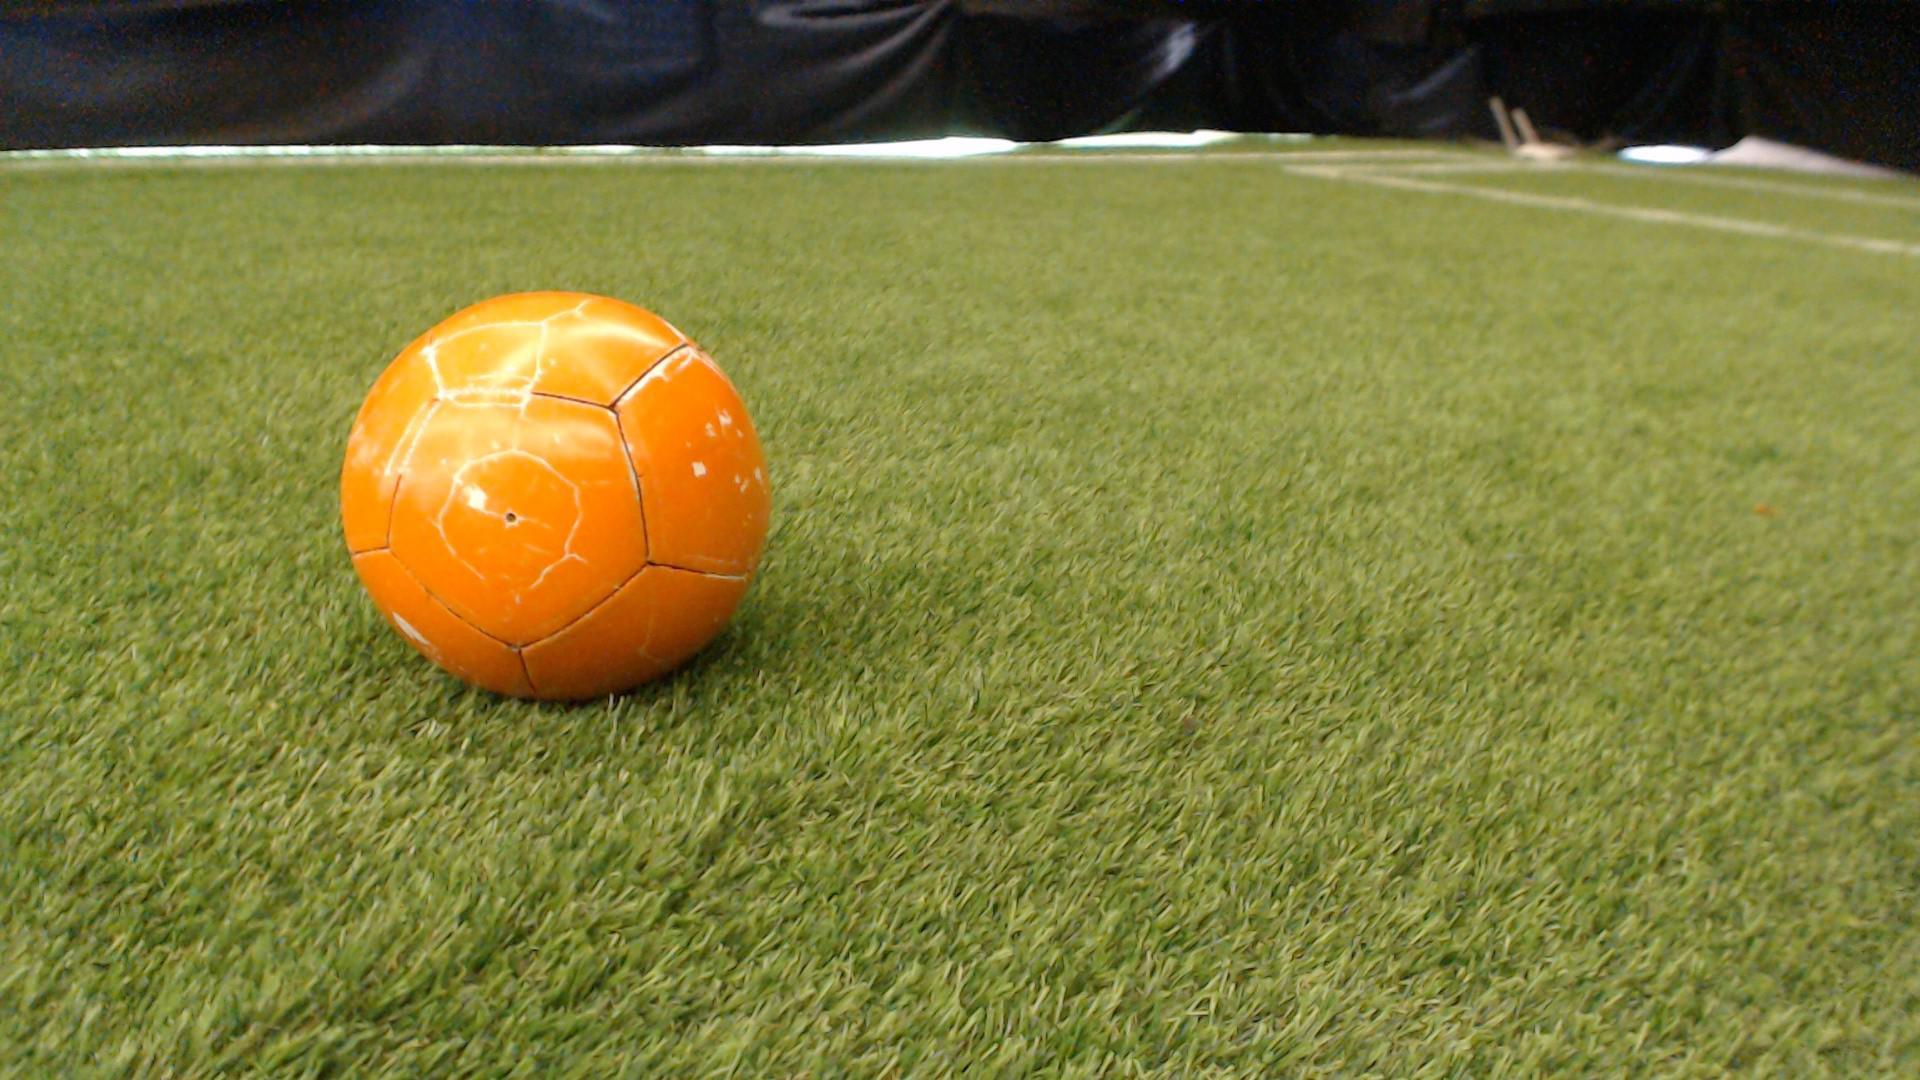bola: (311, 248, 810, 741)
